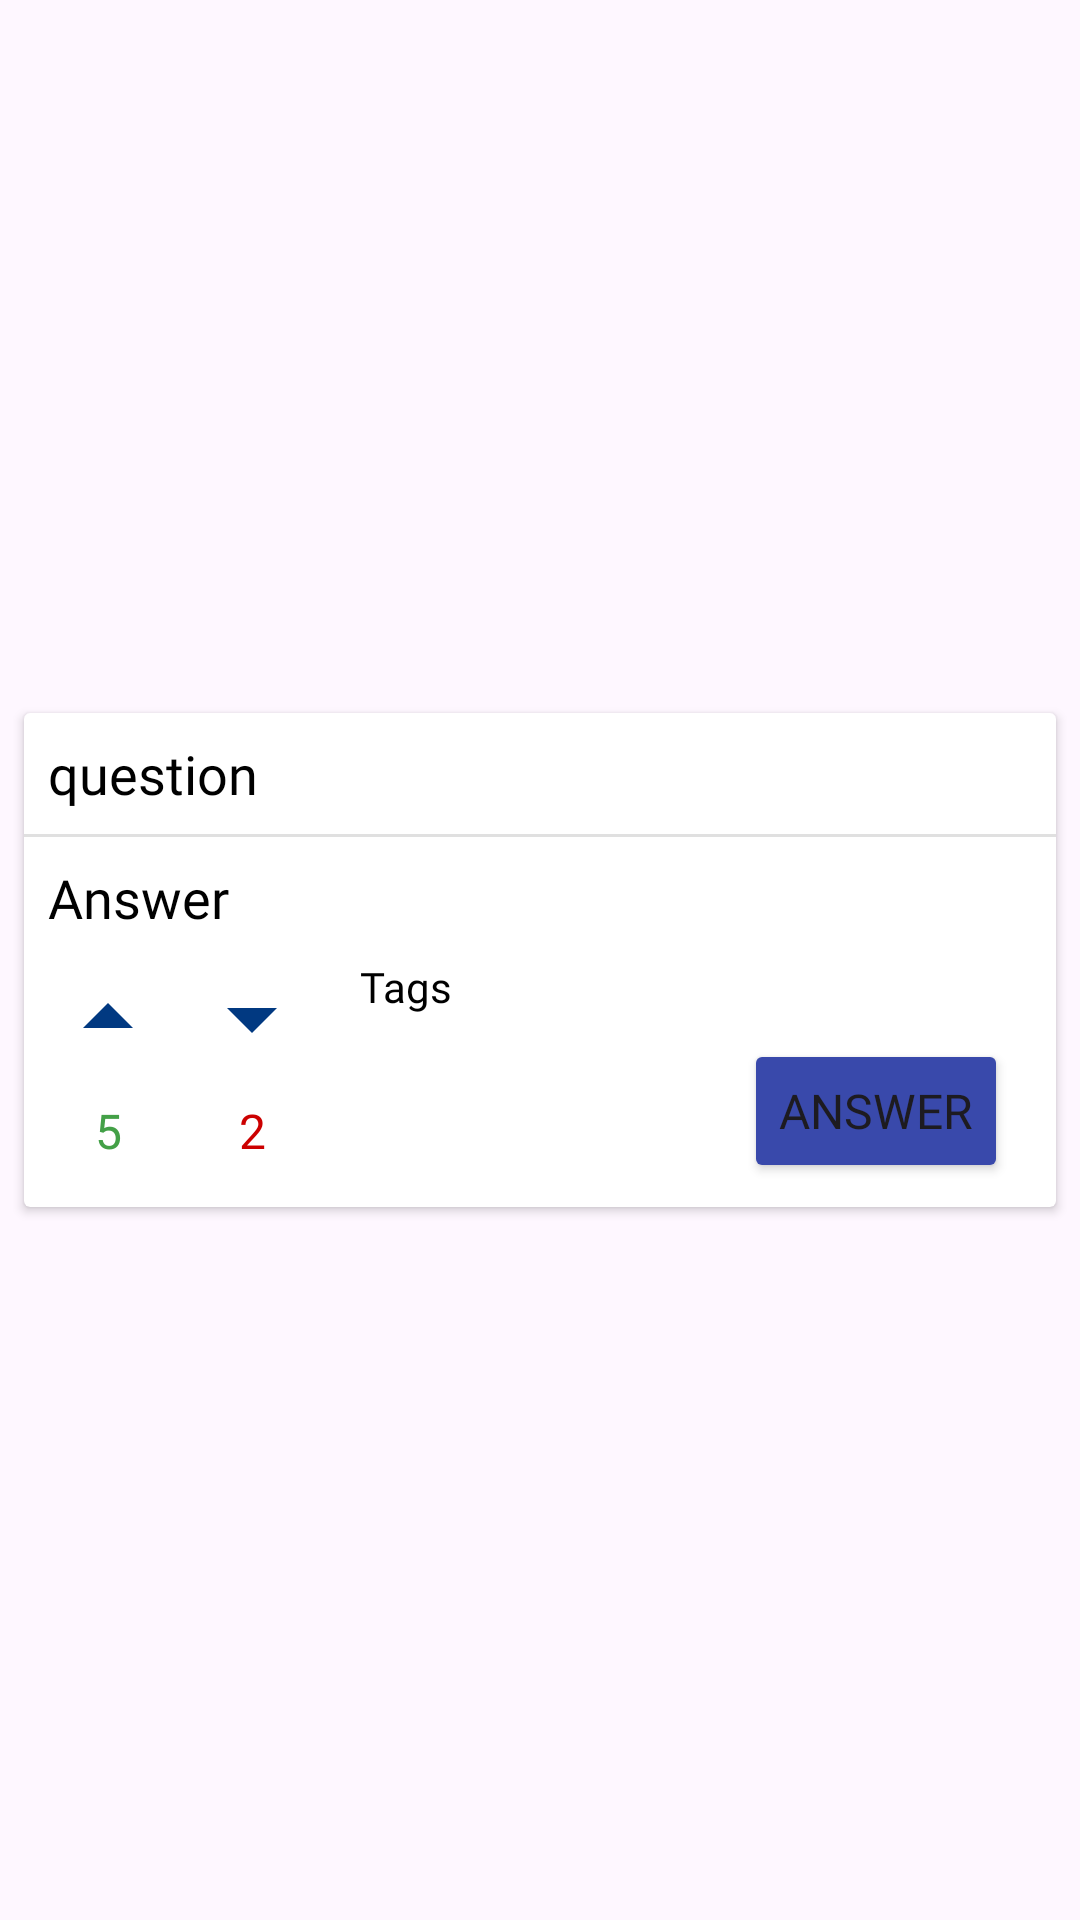

Icons on this 1080 x 1920 Android screen, each with its box as {"x1": x1, "y1": y1, "x2": x2, "y2": y2}:
arrow drop down: {"x1": 227, "y1": 1008, "x2": 277, "y2": 1033}
arrow drop up: {"x1": 83, "y1": 1003, "x2": 133, "y2": 1028}
